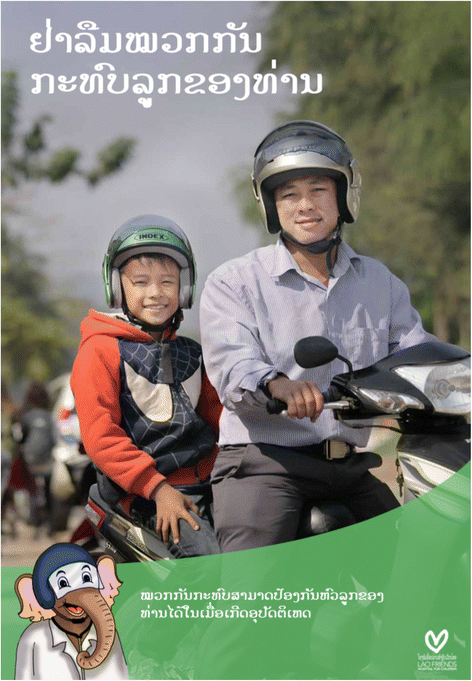helmet: (250, 120, 363, 245), (101, 214, 198, 326)
